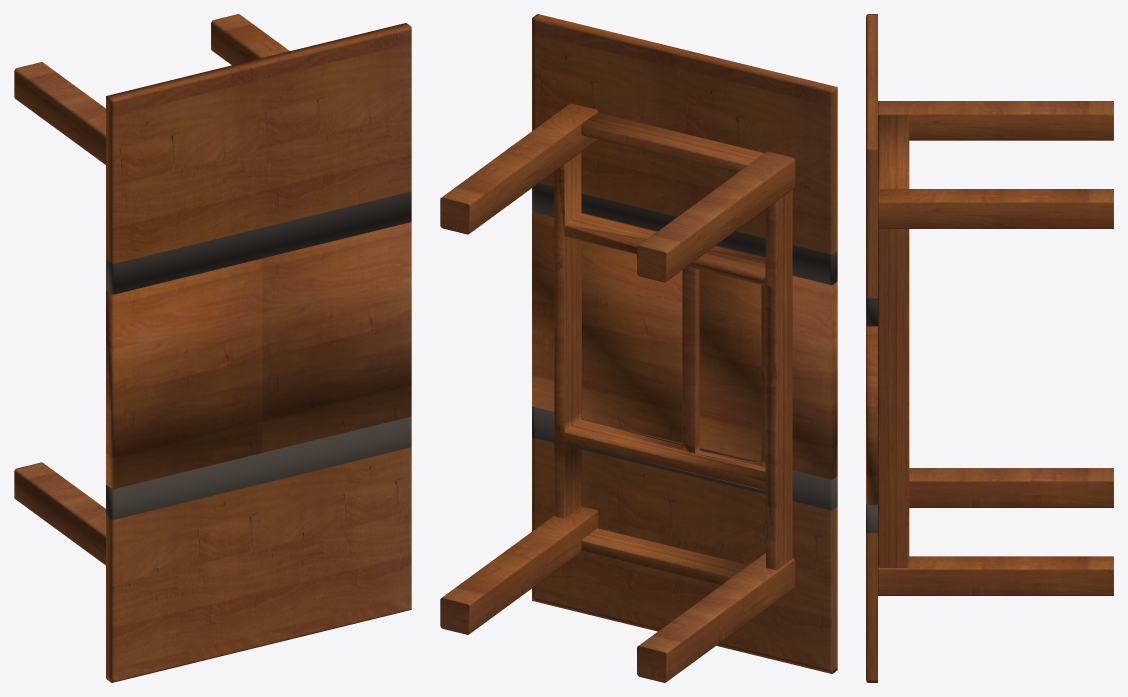
File: table.obj
The picture shows the model from 3 angles, left to right: view 1: azimuth 30°, elevation 25°; view 2: azimuth 150°, elevation 25°; view 3: azimuth 270°, elevation 25°; orthographic projection. The views are drawn at different scales.
Parts seen in each view (by area): view 1: Box0931, adaf1, fafaf1, Object0011, Box0961, Box093, Box096, adaf, fafaf; view 2: Box0931, Box0941, Box0961, fafaf1, adaf1, Box096, Object0011, Box094, Box093; view 3: Box0961, Box0941, Box096, Box0931, Box094, fafaf1, Box093, Object0011, fafaf.
Part boxes in pixels (left/top/right/bottom): Box0931: left=106, top=23, right=410, bottom=682; adaf1: left=106, top=258, right=262, bottom=488; fafaf1: left=262, top=222, right=410, bottom=452; Object0011: left=106, top=191, right=410, bottom=519; Box0961: left=14, top=14, right=288, bottom=564; Box093: left=111, top=26, right=411, bottom=682; Box096: left=14, top=14, right=289, bottom=565; adaf: left=109, top=259, right=259, bottom=488; fafaf: left=262, top=222, right=411, bottom=452; Box0931: left=532, top=14, right=837, bottom=673; Box0941: left=555, top=112, right=792, bottom=584; Box0961: left=443, top=103, right=795, bottom=680; fafaf1: left=532, top=212, right=681, bottom=442; adaf1: left=699, top=270, right=837, bottom=479; Box096: left=440, top=103, right=795, bottom=682; Object0011: left=532, top=183, right=837, bottom=510; Box094: left=554, top=113, right=777, bottom=584; Box093: left=538, top=14, right=837, bottom=669; Box0961: left=878, top=101, right=1113, bottom=594; Box0941: left=879, top=115, right=907, bottom=567; Box096: left=878, top=112, right=1113, bottom=595; Box0931: left=868, top=14, right=877, bottom=682; Box094: left=878, top=115, right=909, bottom=567; fafaf1: left=868, top=326, right=877, bottom=504; Box093: left=866, top=14, right=868, bottom=682; Object0011: left=868, top=298, right=877, bottom=532; fafaf: left=866, top=326, right=877, bottom=504.
Size of the model in its own units: 0.808 by 1.5 by 0.63.
Materials: 2 (1 with a texture image).
